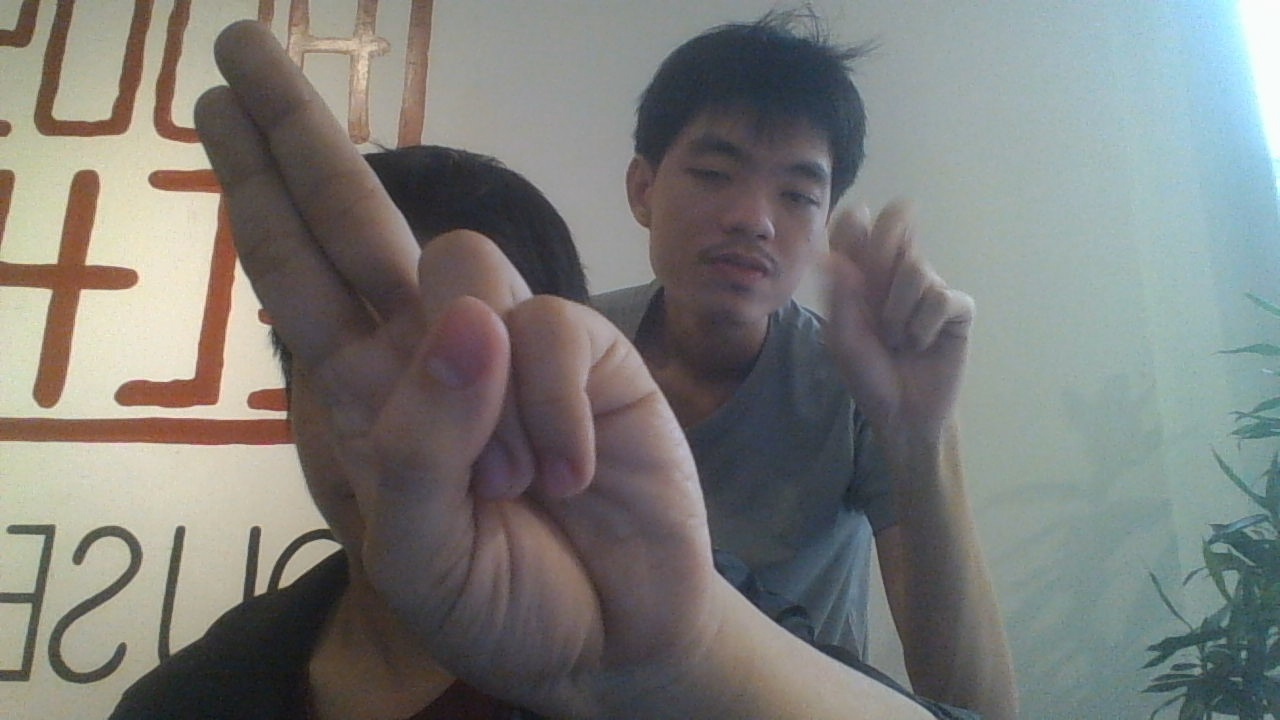stop: (821, 199, 975, 431)
write1: (186, 18, 720, 693)
